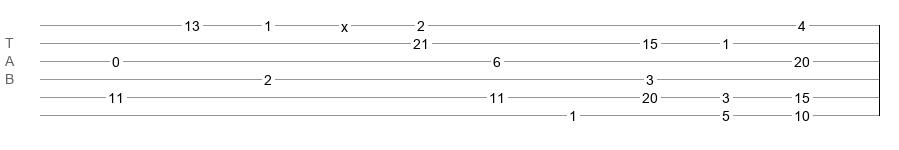0: (112, 54, 120, 64)
1: (264, 18, 272, 28), (569, 108, 577, 118), (722, 36, 730, 46)
10: (794, 108, 810, 118)
11: (108, 90, 124, 100), (489, 90, 505, 100)
13: (184, 18, 200, 28)
15: (642, 36, 658, 46), (794, 90, 810, 100)
2: (264, 72, 272, 82), (417, 18, 425, 28)
20: (642, 90, 658, 100), (794, 54, 810, 64)
21: (413, 36, 429, 46)
3: (646, 72, 654, 82), (722, 90, 730, 100)
4: (798, 18, 806, 28)
5: (722, 108, 730, 118)
6: (493, 54, 501, 64)
x: (341, 19, 348, 27)
